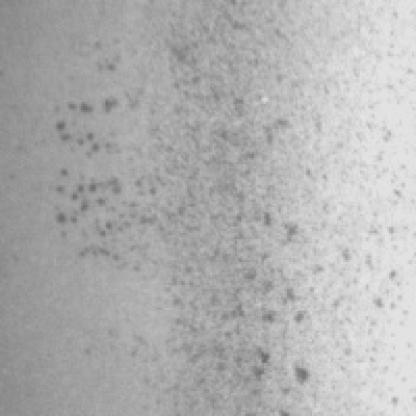pitted_surface: (50, 44, 405, 416)
